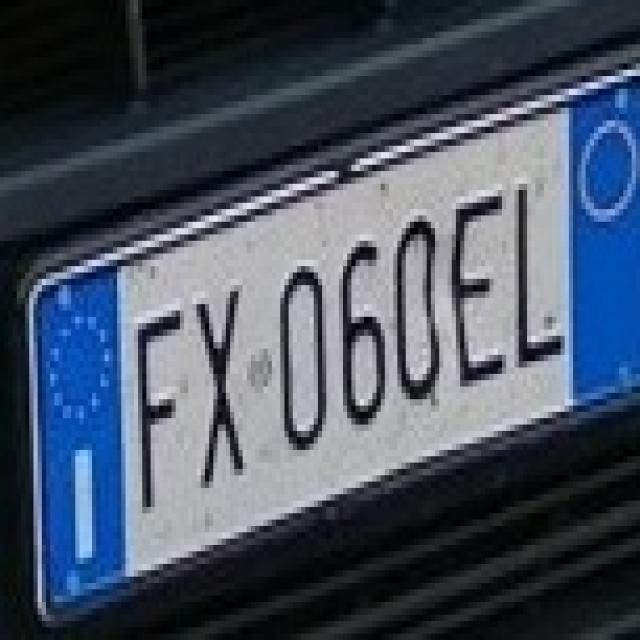0: (380, 190, 448, 399), (264, 247, 330, 444)
6: (326, 222, 389, 424)
E: (440, 178, 510, 380)
F: (117, 285, 184, 507)
L: (502, 158, 565, 368)
X: (180, 273, 251, 482)
